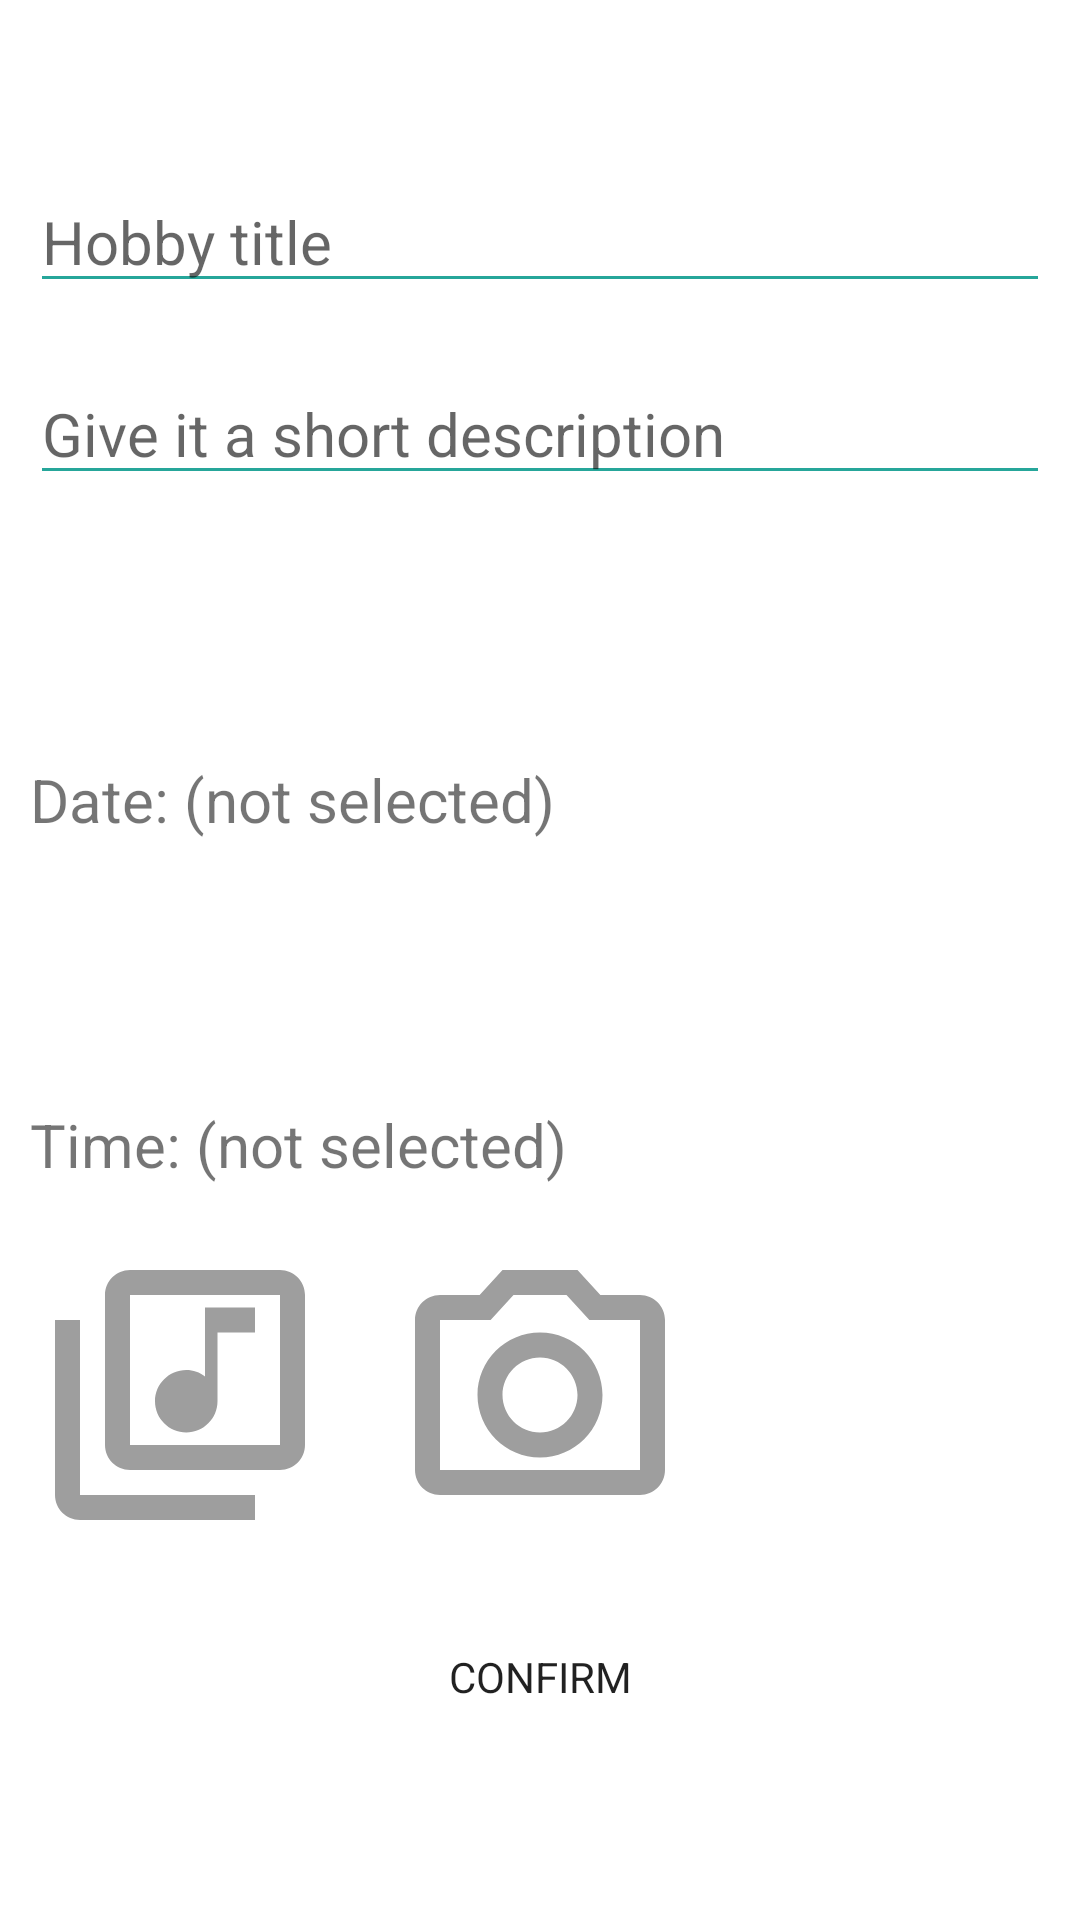

Where to tap for icons on this 1080px x 1920px app screen, as [x,y]:
camera: [540,1382]
music: [180,1395]
